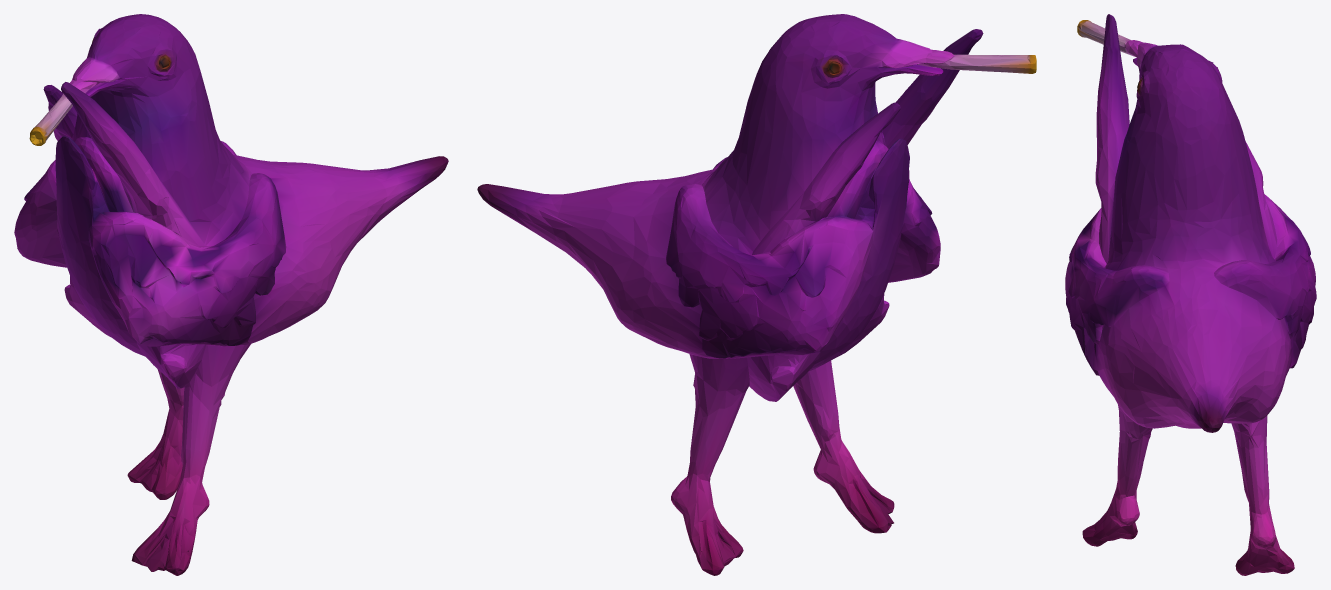
Rendered from crowd.glb.
3 renders of one model, left to right at view 1: azimuth 30°, elevation 25°; view 2: azimuth 150°, elevation 25°; view 3: azimuth 270°, elevation 25°, orthographic. The views are drawn at different scales.
Bounding box in the file's own units: 0.9516 × 0.9794 × 0.453.
